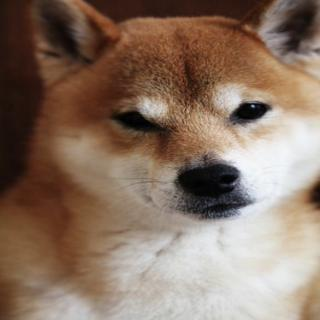dog: (33, 0, 320, 240)
nose: (167, 155, 253, 200)
